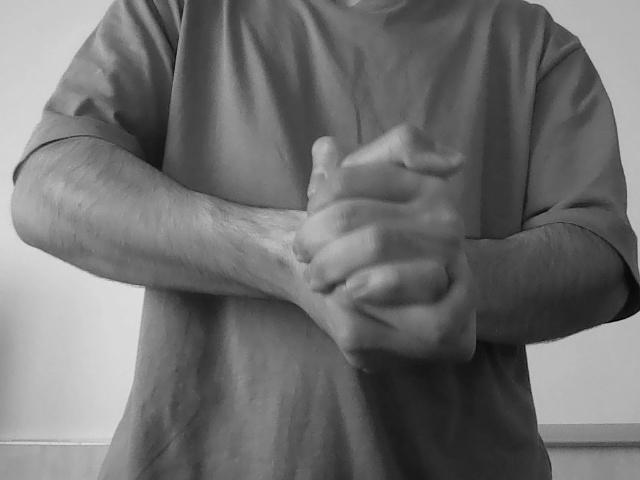friend: (277, 120, 480, 391)
